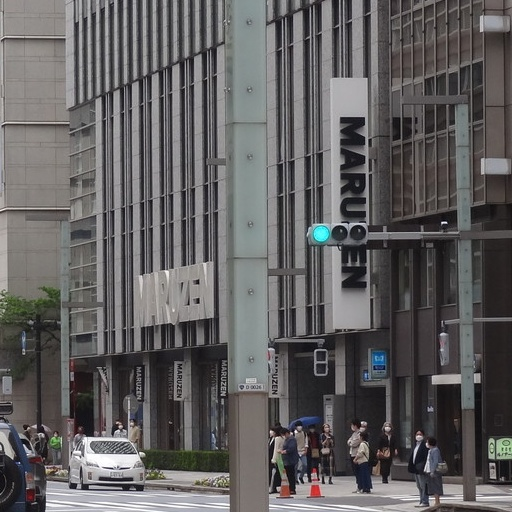Traffic_Signal_Blue: (300, 214, 372, 254)
